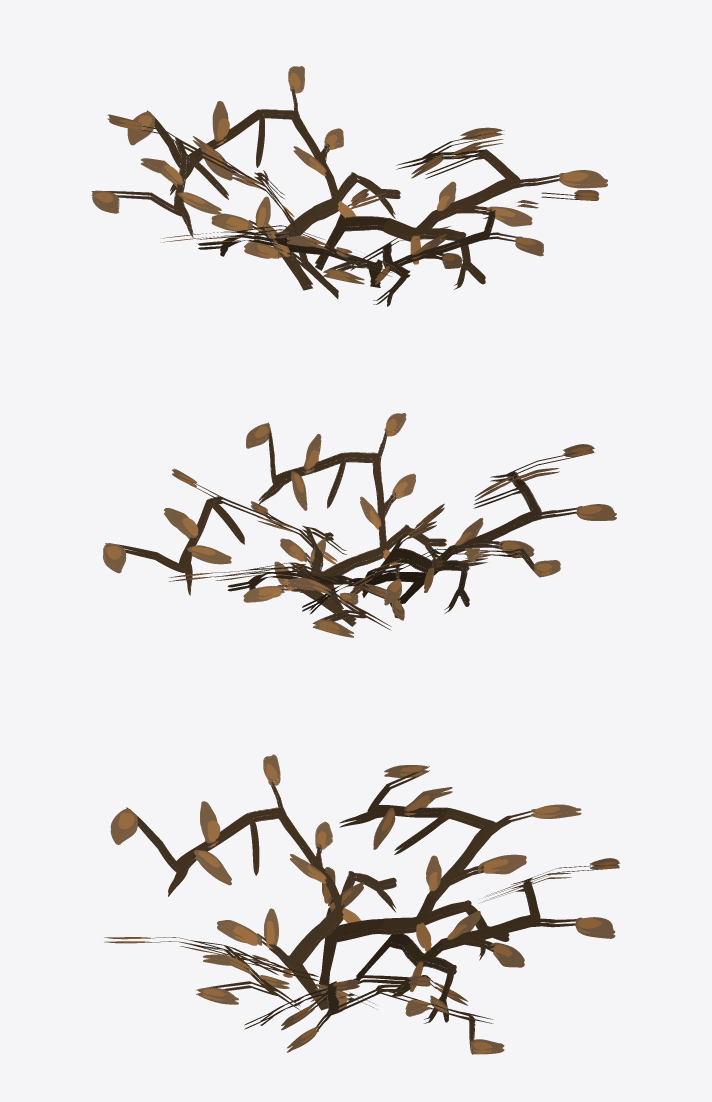
The model's file is Ferns06.fbx.
3 renders of one model, top to bottom at view 1: azimuth 30°, elevation 25°; view 2: azimuth 150°, elevation 25°; view 3: azimuth 270°, elevation 25°, orthographic. The views are drawn at different scales.
Parts seen in each view (by area): view 1: Fern06; view 2: Fern06; view 3: Fern06.
Boxes of the visible parts, <box> form: Fern06: <box>91,66,607,306</box>; Fern06: <box>103,413,616,637</box>; Fern06: <box>104,754,620,1054</box>.
Size of the model in its own units: 1.76 by 0.4189 by 1.64.
1 material, 1 textured.
